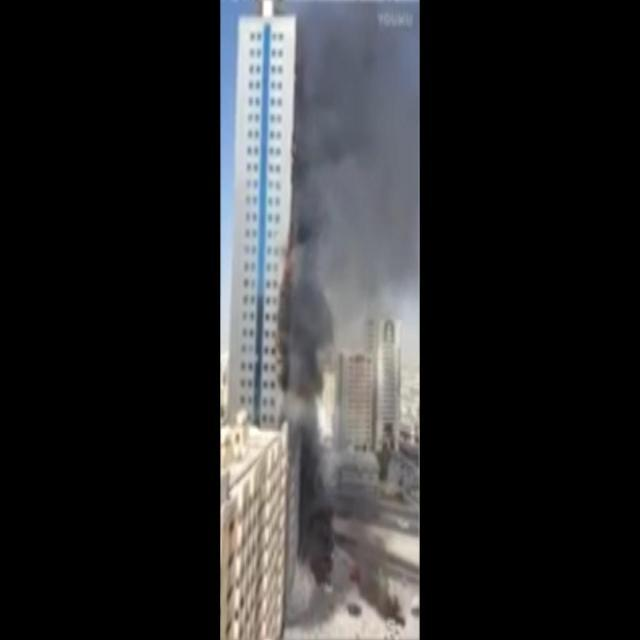Smoke: (274, 0, 420, 588)
